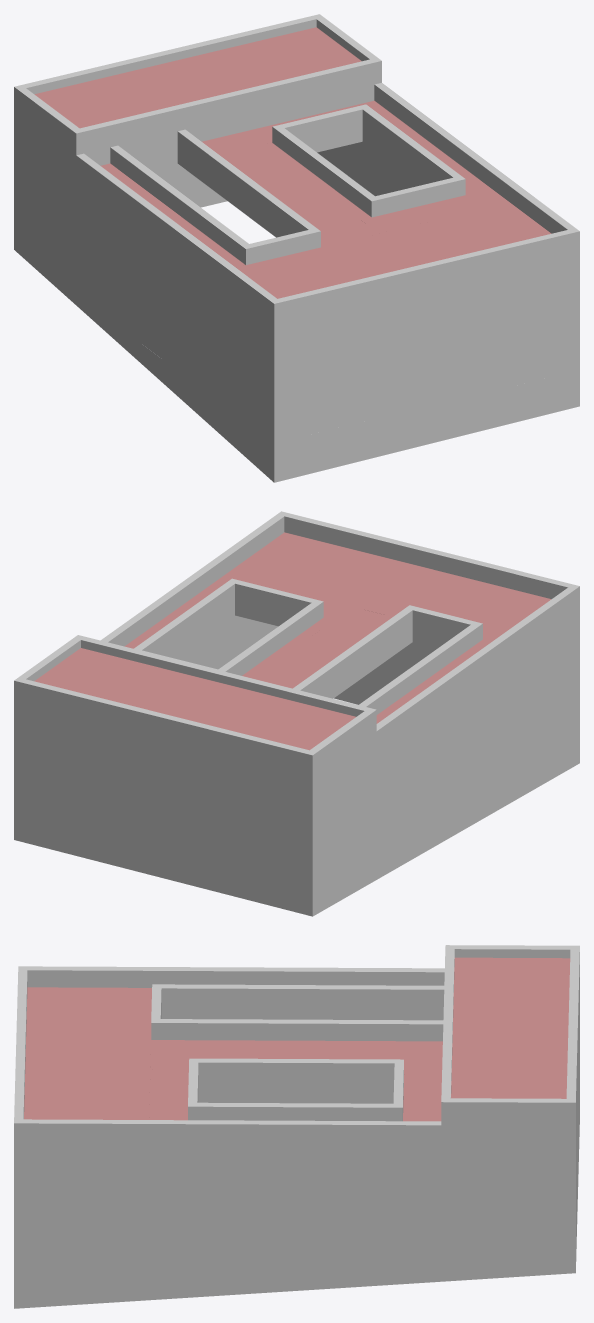
File: LOD_Block_3_29.glb
3 views of the same model, one above another, from view 1: azimuth 30°, elevation 25°; view 2: azimuth 150°, elevation 25°; view 3: azimuth 270°, elevation 25° (orthographic). The views are drawn at different scales.
Visible parts, largest first — view 1: mesh_CityEngineMaterial_550; view 2: mesh_CityEngineMaterial_550; view 3: mesh_CityEngineMaterial_550.
Boxes of the visible parts, x1,y1,x2,y2 form: mesh_CityEngineMaterial_550: [14, 14, 579, 482]; mesh_CityEngineMaterial_550: [14, 511, 579, 916]; mesh_CityEngineMaterial_550: [14, 945, 579, 1308].
Size of the model in its own units: 20.06 by 12.47 by 30.08.
